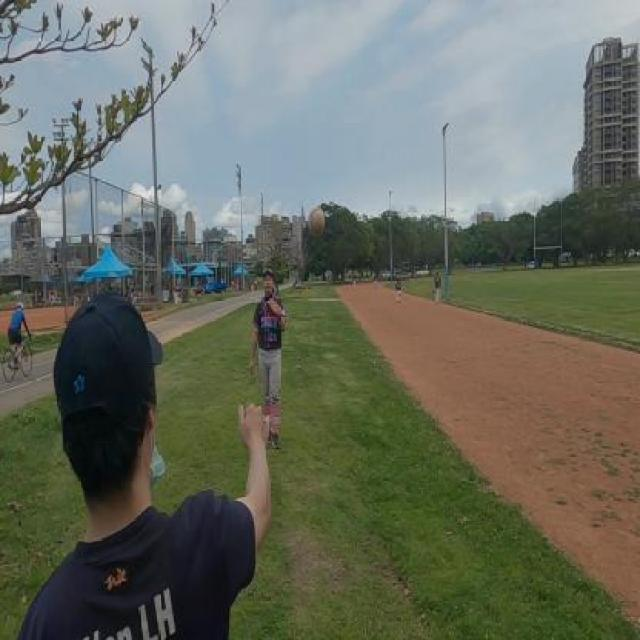baseball: (308, 206, 326, 239)
